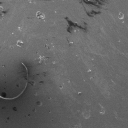corrosion: (34, 10, 46, 20), (16, 38, 25, 49), (117, 11, 126, 20), (35, 98, 43, 107), (11, 105, 19, 113), (1, 91, 8, 99), (68, 40, 75, 46), (87, 70, 91, 75)
